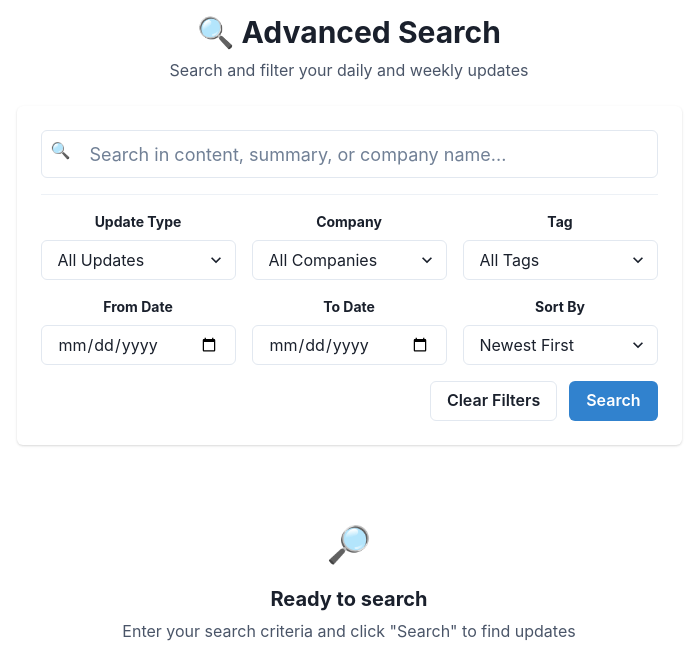
Scenario: Search page › shows the no-results state when fetches fail (catch branches)
This screenshot has width=700, height=658.
Step 1. Click the button "Search" → (613, 401), box x1=569 y1=381 x2=658 y2=421
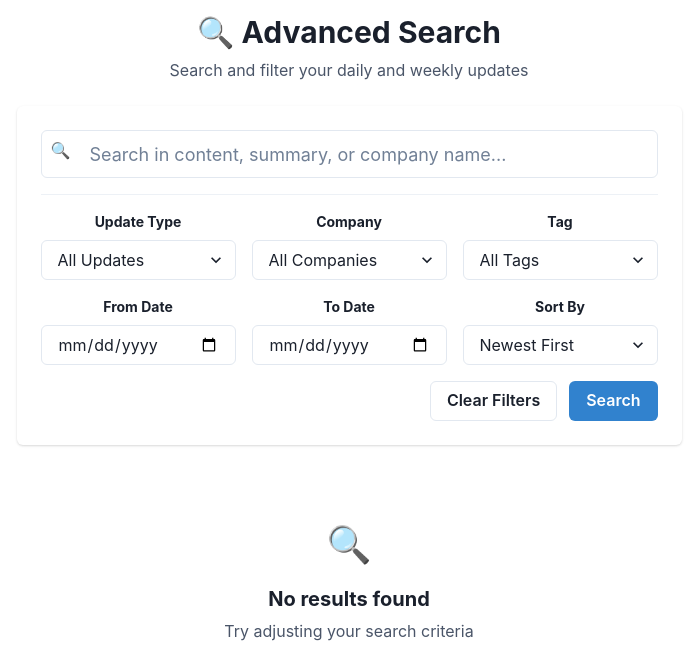
Now the heading "No results found" is shown, box x1=268 y1=587 x2=430 y2=611
